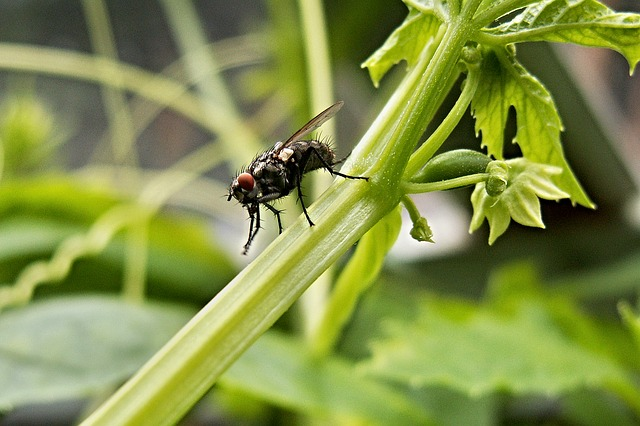fly: (211, 99, 377, 247)
